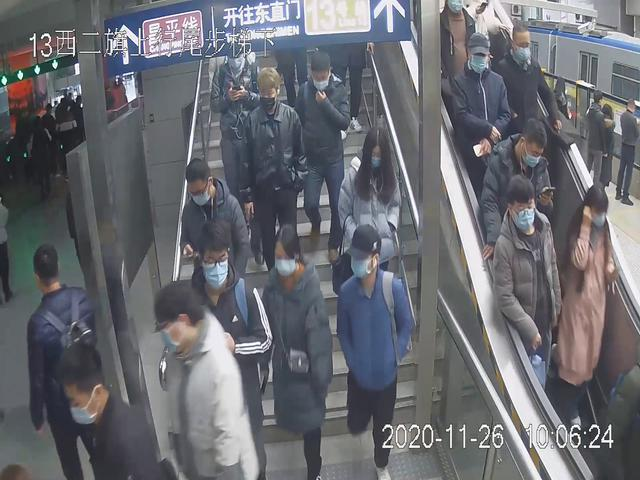person: (335, 222, 418, 480), (264, 220, 334, 480), (494, 172, 562, 418), (239, 66, 312, 281), (557, 179, 619, 428), (336, 118, 402, 308), (291, 51, 349, 264), (448, 28, 512, 211), (210, 38, 269, 230)
